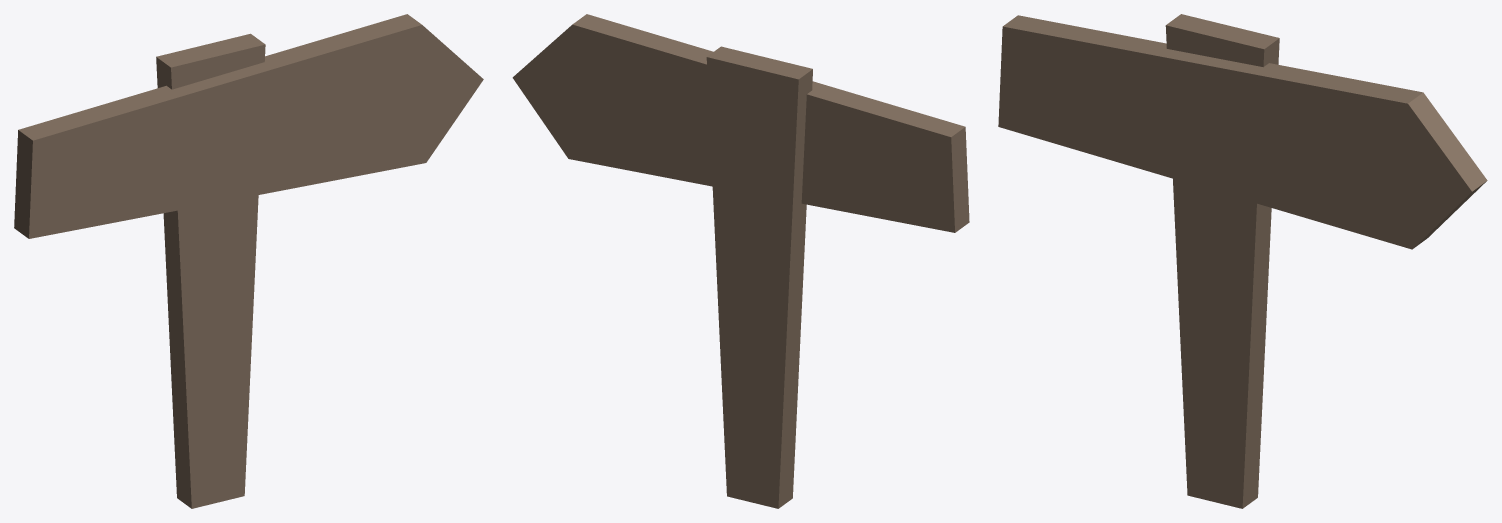
File: sign_direction.gltf
3 views of the same model, side by side, from view 1: azimuth 30°, elevation 25°; view 2: azimuth 150°, elevation 25°; view 3: azimuth 330°, elevation 25° (orthographic). The views are drawn at different scales.
Parts seen in each view (by area): view 1: SignDirectionMesh; view 2: SignDirectionMesh; view 3: SignDirectionMesh.
Part boxes in pixels (x1,y1,x2,y2): SignDirectionMesh: (14,14,483,508); SignDirectionMesh: (512,14,969,508); SignDirectionMesh: (998,14,1487,508).
Size of what is drawn, in the model's own units: 2.13 by 2 by 0.1962.
Materials: 1 (1 with a texture image).
